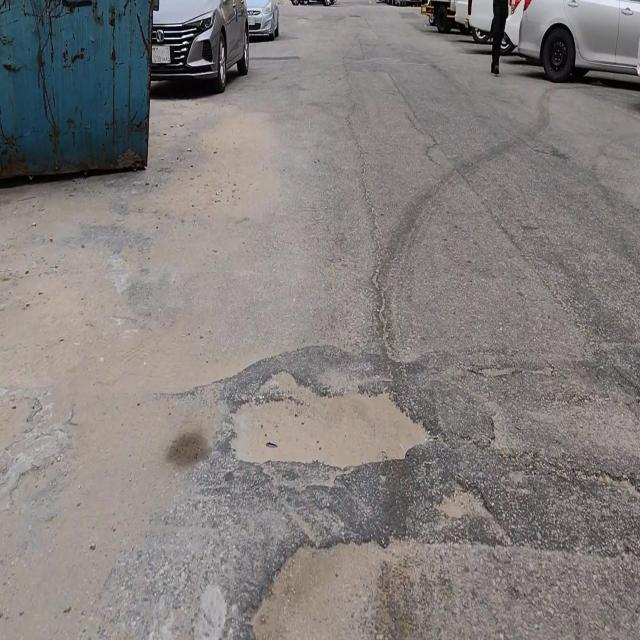Pothole: (229, 366, 439, 473), (245, 533, 412, 639)
